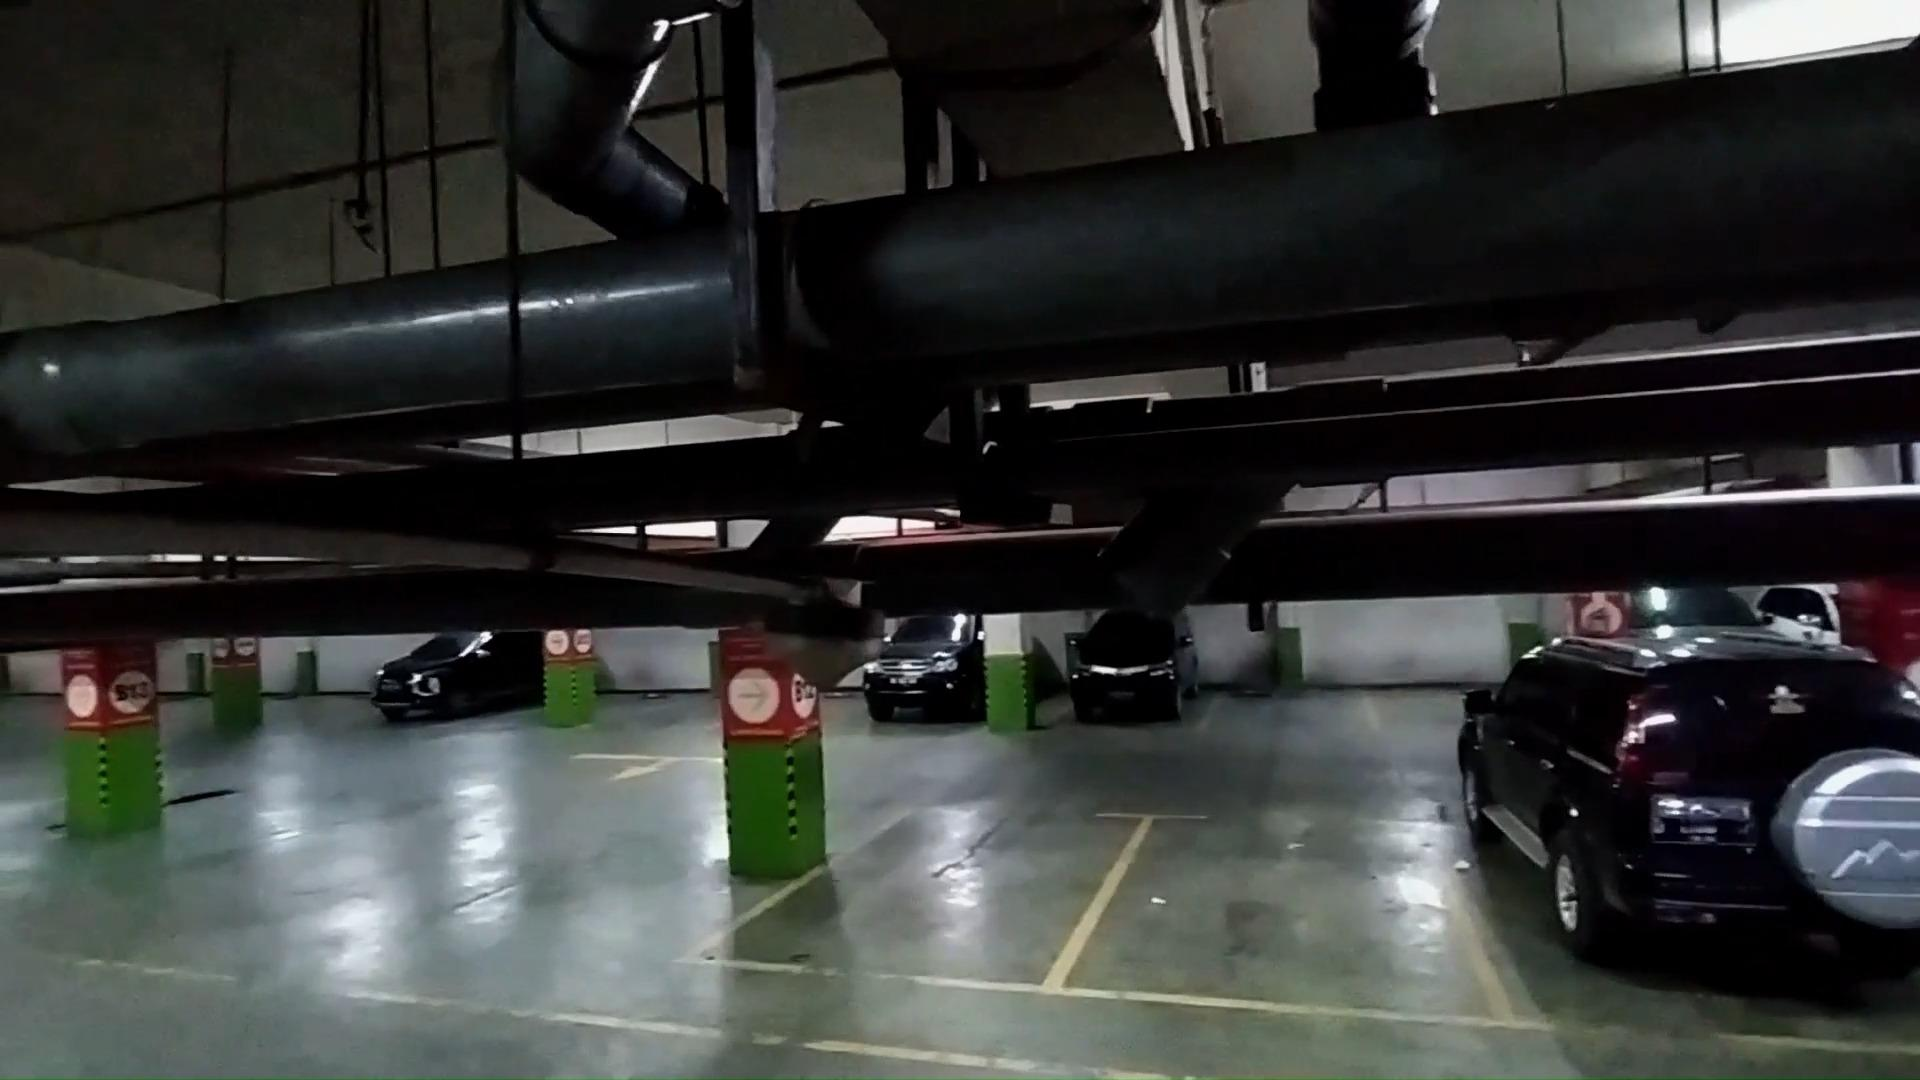empty: (1069, 820, 1532, 1030), (716, 807, 1124, 994)
occupied: (1467, 688, 1910, 1052)
